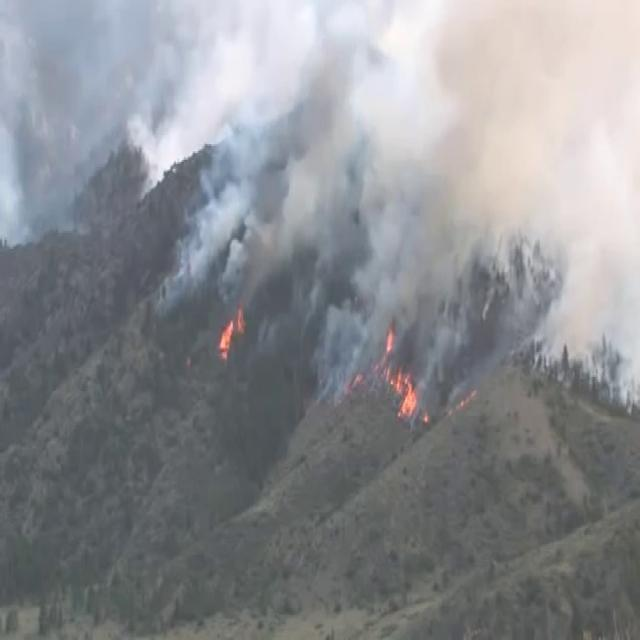Fire: (382, 323, 417, 418), (218, 304, 244, 361)
Smoke: (186, 2, 640, 298)
